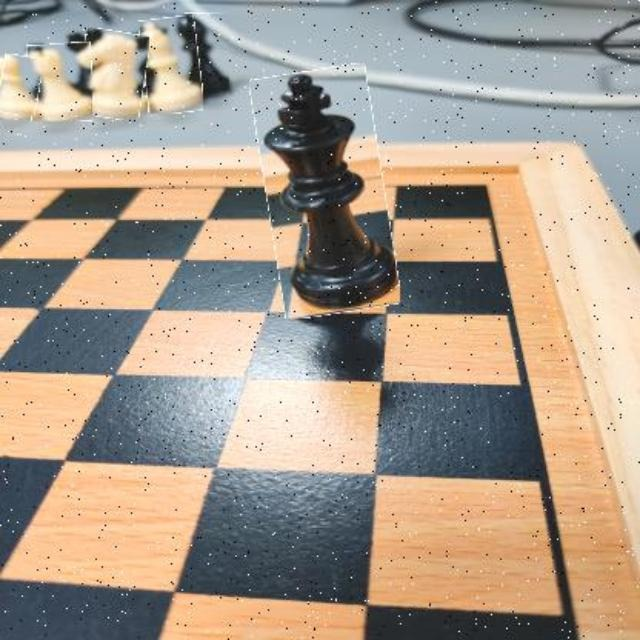black-bishop: (182, 13, 231, 97)
black-king: (259, 67, 393, 317)
white-bishop: (141, 17, 202, 115)
white-knight: (76, 31, 148, 119)
white-pawn: (0, 55, 41, 116)
white-rook: (28, 42, 94, 122)
